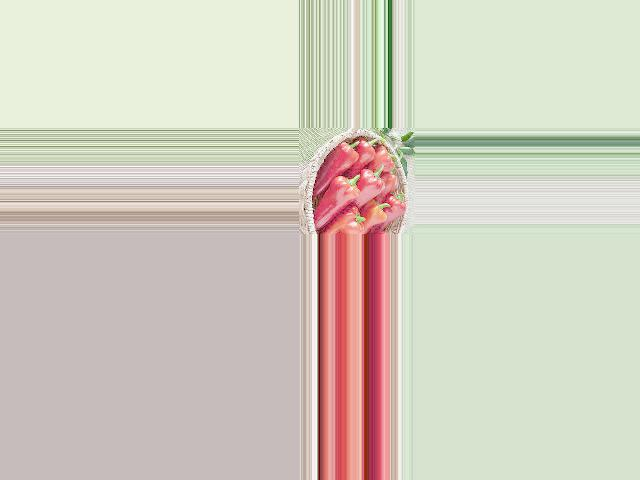bell_pepper: (355, 135, 379, 165)
